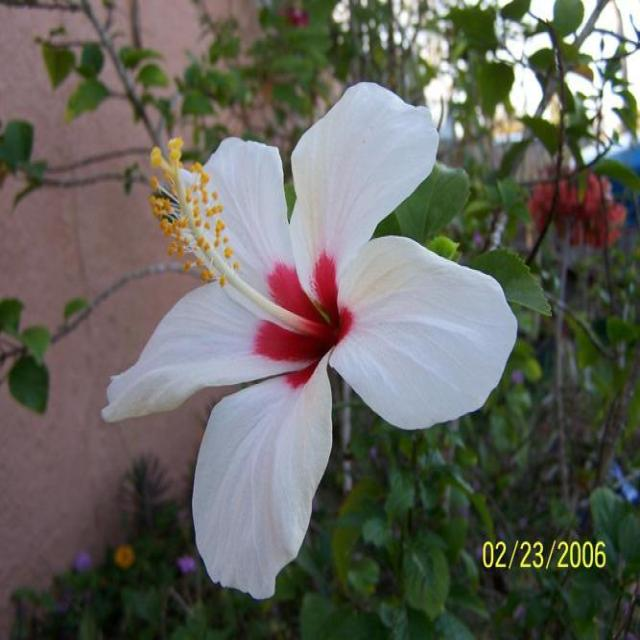hibiscus: (88, 60, 540, 605)
